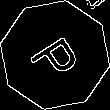P_NE: (24, 26, 86, 84)
